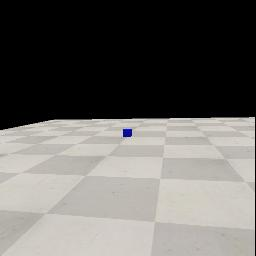box: (123, 129, 132, 137)
